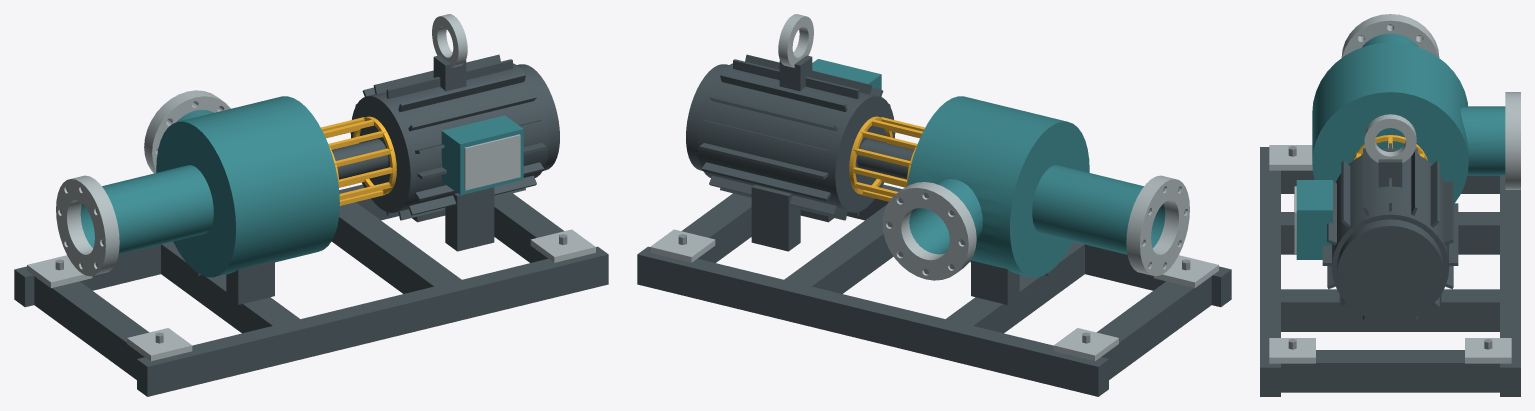
The picture shows the model from 3 angles, left to right: view 1: azimuth 30°, elevation 25°; view 2: azimuth 150°, elevation 25°; view 3: azimuth 270°, elevation 25°; orthographic projection. The views are drawn at different scales.
Parts seen in each view (by area): view 1: SM_NPP_PumpSkid_4x2_A; view 2: SM_NPP_PumpSkid_4x2_A; view 3: SM_NPP_PumpSkid_4x2_A.
Boxes of the visible parts, bbox=[...] form: SM_NPP_PumpSkid_4x2_A: bbox=[14, 14, 608, 396]; SM_NPP_PumpSkid_4x2_A: bbox=[637, 14, 1231, 396]; SM_NPP_PumpSkid_4x2_A: bbox=[1260, 14, 1520, 396].
Bounding box in the file's own units: 4 × 2 × 2.
